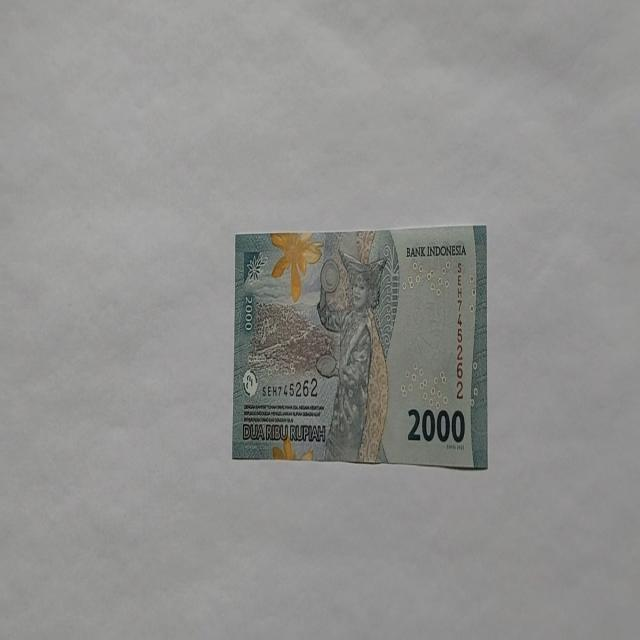dua ribu rupiah: (232, 224, 488, 468), (314, 247, 390, 463)
